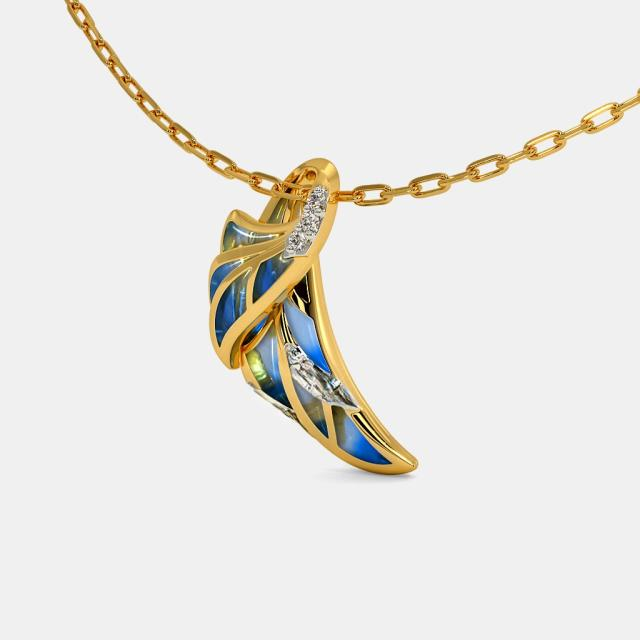missing gem: (245, 349, 300, 422), (223, 221, 284, 250), (268, 174, 300, 222)
